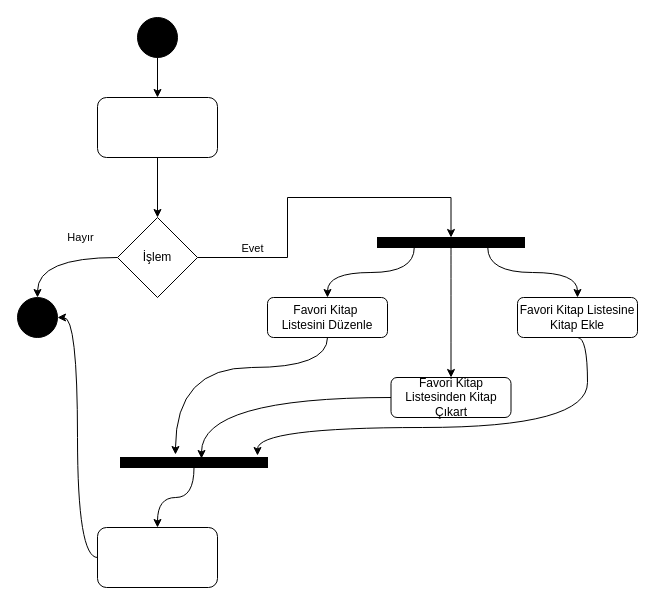
Image size: 655x605. Some labels were removed from this diagram. Each missing label, with the centre of its shape:
Favori Kitap Listesini Görüntüle: point (157, 557)
Favori Kitap Listesini Oluştur: point (157, 127)
